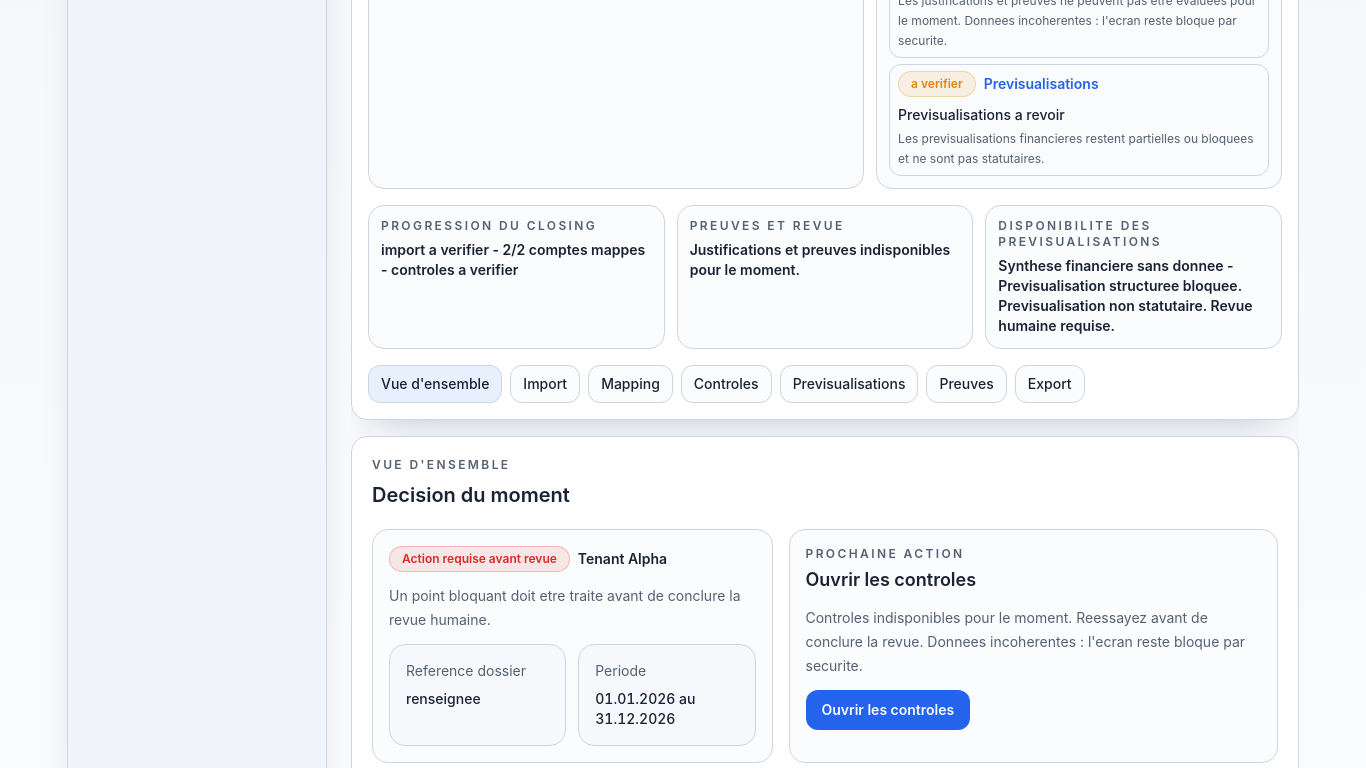
Test: router financial summary › renders the NO_DATA preview as a business-readable financial summary with the non-statutory posture
The width and height of the screenshot is (1366, 768).
(page scrolled)
Click the tab "Previsualisations" at point(849, 384), box [780,365,918,403]
(page scrolled)
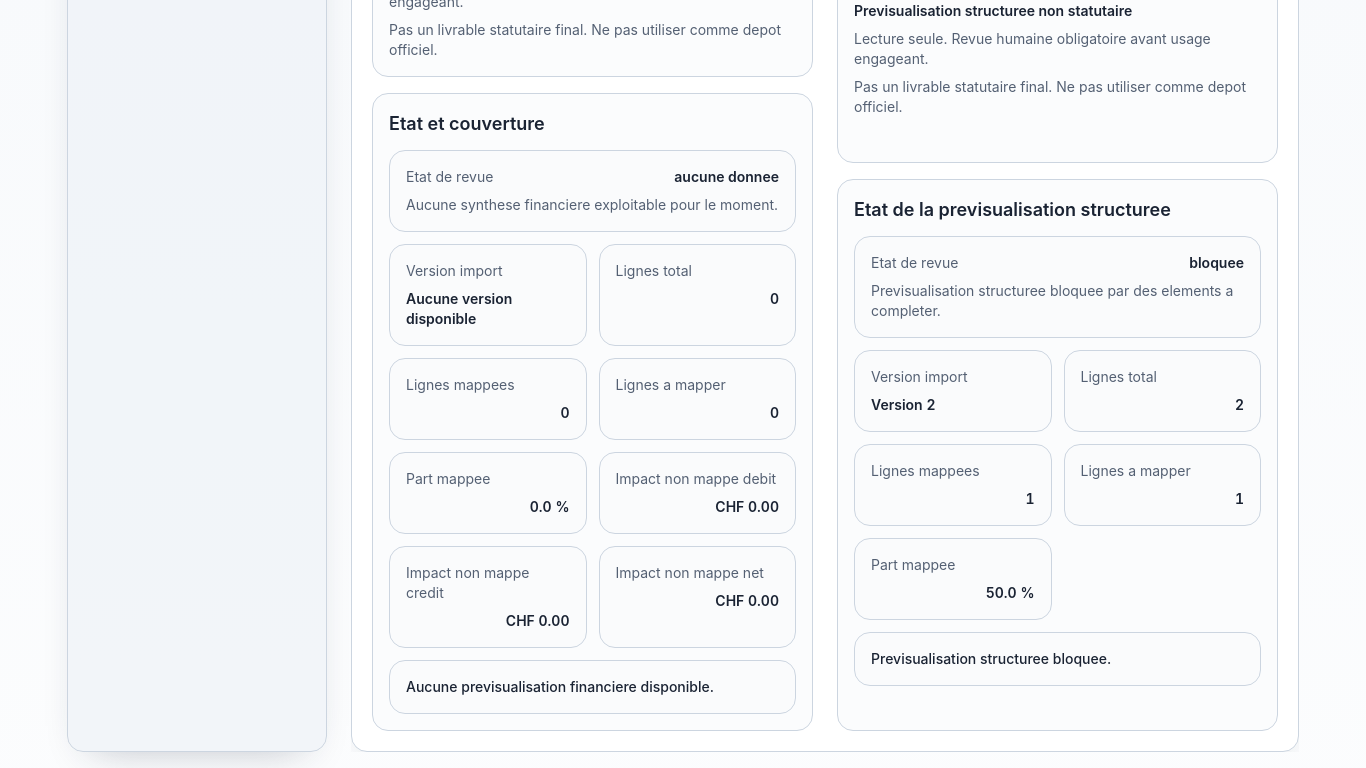
expect the text "Pas un livrable statutaire final. Ne pas utiliser comme depot officiel." below "Previsualisation operationnelle" is shown: met, box [389,21,781,58]
expect the text "Etat de revue" in the row of "aucune donnee" is shown: met, box [406,168,493,185]
expect the text "aucune donnee" is shown: met, box [674,167,779,187]
